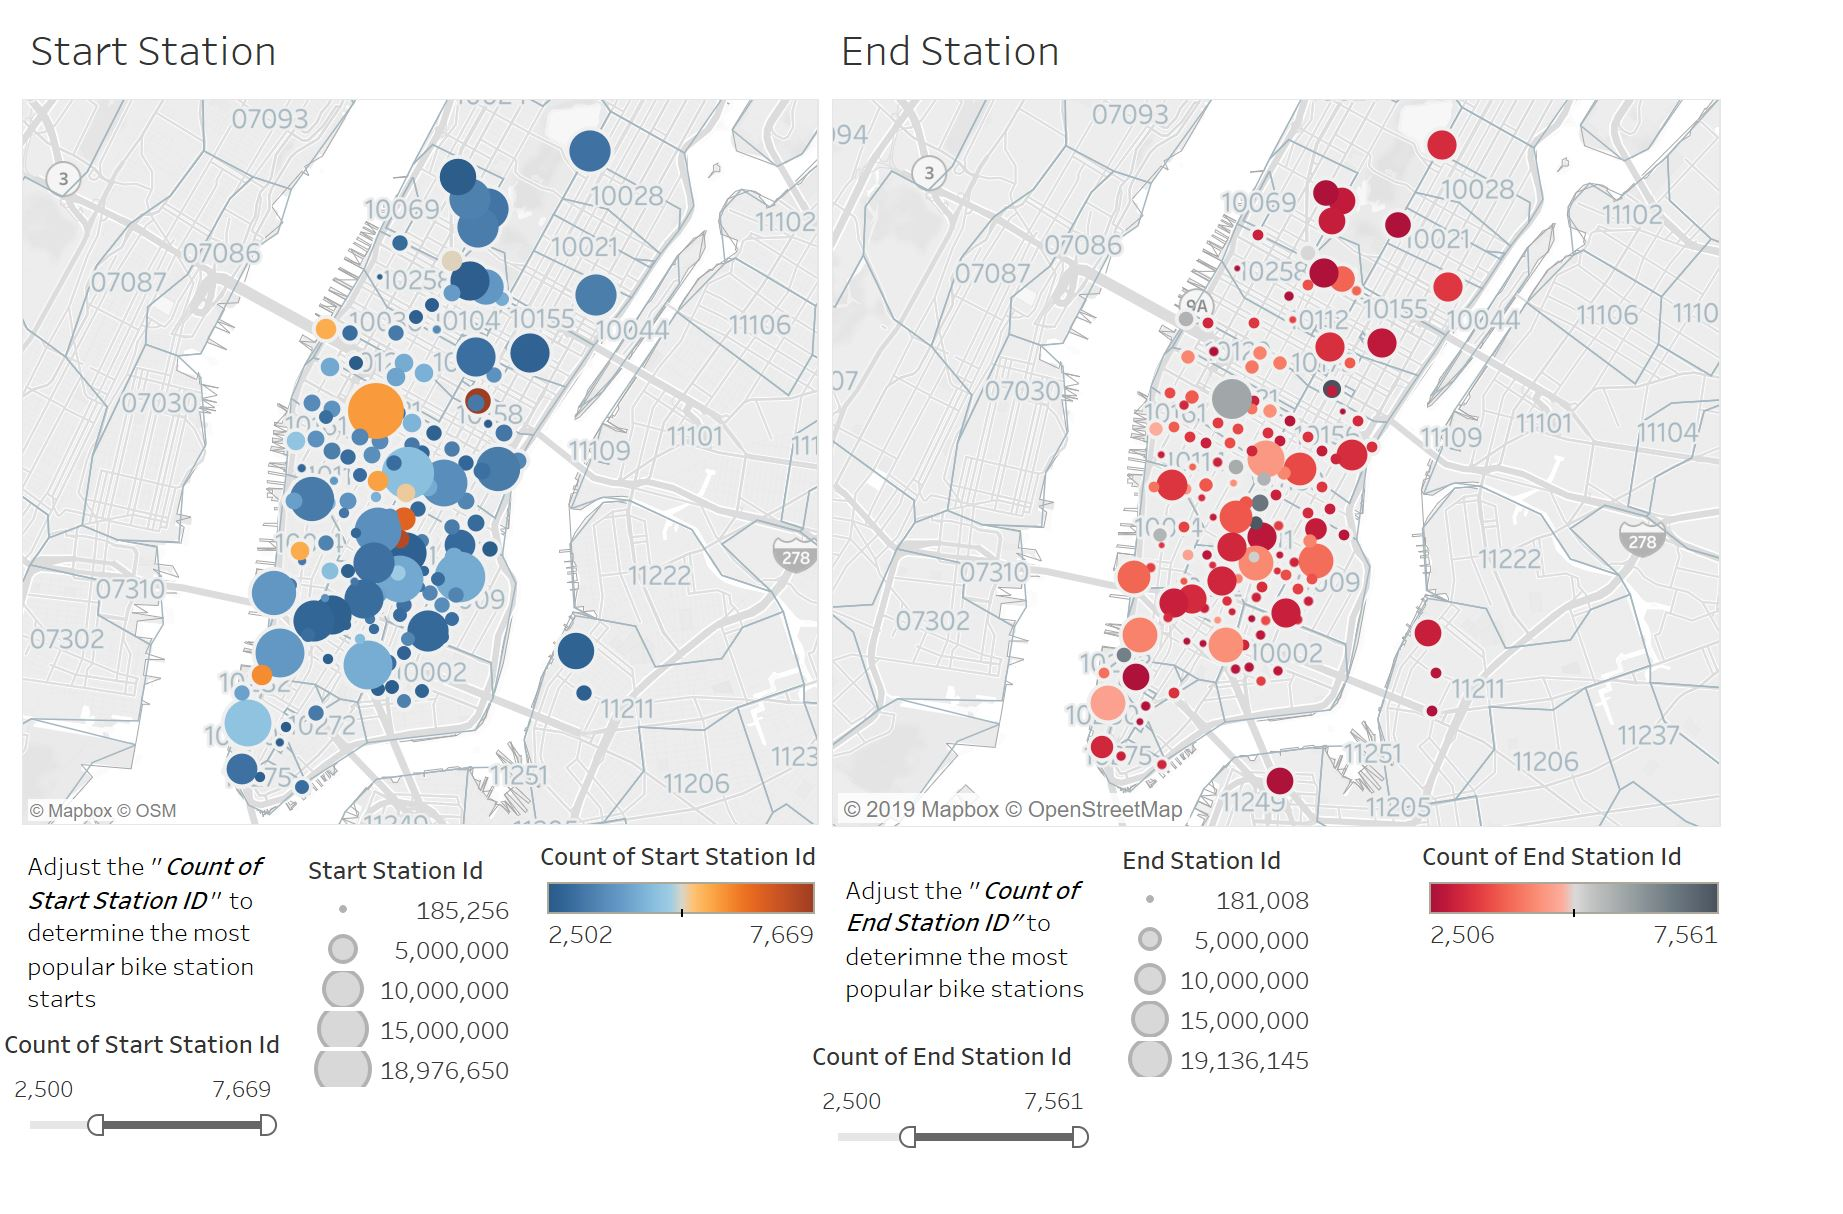

The page's visual inventory and layout, read from the dashboard file:
{"tool":"tableau","page":{"name":"End & Start Data Comparison","canvas":[1000,1000],"units":"permille","ordinal":0},"visuals":[{"type":"worksheet","title":"Start Station","mark":"Circle","rows":["start station latitude"],"cols":["start station longitude"],"box":[22.8,30.7,344.7,552.8]},{"type":"worksheet","title":"End Station","mark":"Automatic","rows":["end station latitude"],"cols":["end station longitude"],"box":[372.7,30.7,385,553.9]},{"type":"text","box":[22.8,586.8,114.1,84]},{"type":"legend","title":"End Station","param":"[federated.1y0mt0t1nj7qjr1ccv0i107uqxnj].[sum:end station id:qk]","box":[497.9,594.8,81.9,133.9]},{"type":"legend","title":"End Station","param":"[federated.1y0mt0t1nj7qjr1ccv0i107uqxnj].[cnt:end station id:qk]","box":[571.1,594.8,81.9,86.3]},{"type":"text","box":[375.7,598.2,110.6,62.4]},{"type":"legend","title":"Start Station","param":"[federated.1y0mt0t1nj7qjr1ccv0i107uqxnj].[sum:start station id:qk]","box":[145.7,603.9,81.9,133.9]},{"type":"legend","title":"Start Station","param":"[federated.1y0mt0t1nj7qjr1ccv0i107uqxnj].[cnt:start station id:qk]","box":[244,612.9,81.9,86.3]},{"type":"filter","title":"End Station","param":"[federated.1y0mt0t1nj7qjr1ccv0i107uqxnj].[cnt:end station id:qk]","box":[375.7,659.5,93.6,69.2]},{"type":"filter","title":"Start Station","param":"[federated.1y0mt0t1nj7qjr1ccv0i107uqxnj].[cnt:start station id:qk]","box":[19.9,675.4,93.6,69.2]}]}

Visuals, with their boxes on the dashboard's canvas, which has no fixed pixel size, in thousandths of its width and height (x1, y1, x2, y2). These are canvas units, not pixel positions in the 1843x1214 screenshot, which may show the page scaled, cropped or inside an application window:
"Start Station" worksheet (Circle marks): 23, 31, 368, 584
"End Station" worksheet: 373, 31, 758, 585
text: 23, 587, 137, 671
"End Station" legend: 498, 595, 580, 729
"End Station" legend: 571, 595, 653, 681
text: 376, 598, 486, 661
"Start Station" legend: 146, 604, 228, 738
"Start Station" legend: 244, 613, 326, 699
"End Station" filter: 376, 660, 469, 729
"Start Station" filter: 20, 675, 114, 745
